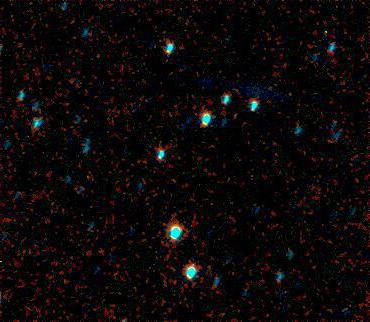star: (148, 43, 178, 73)
